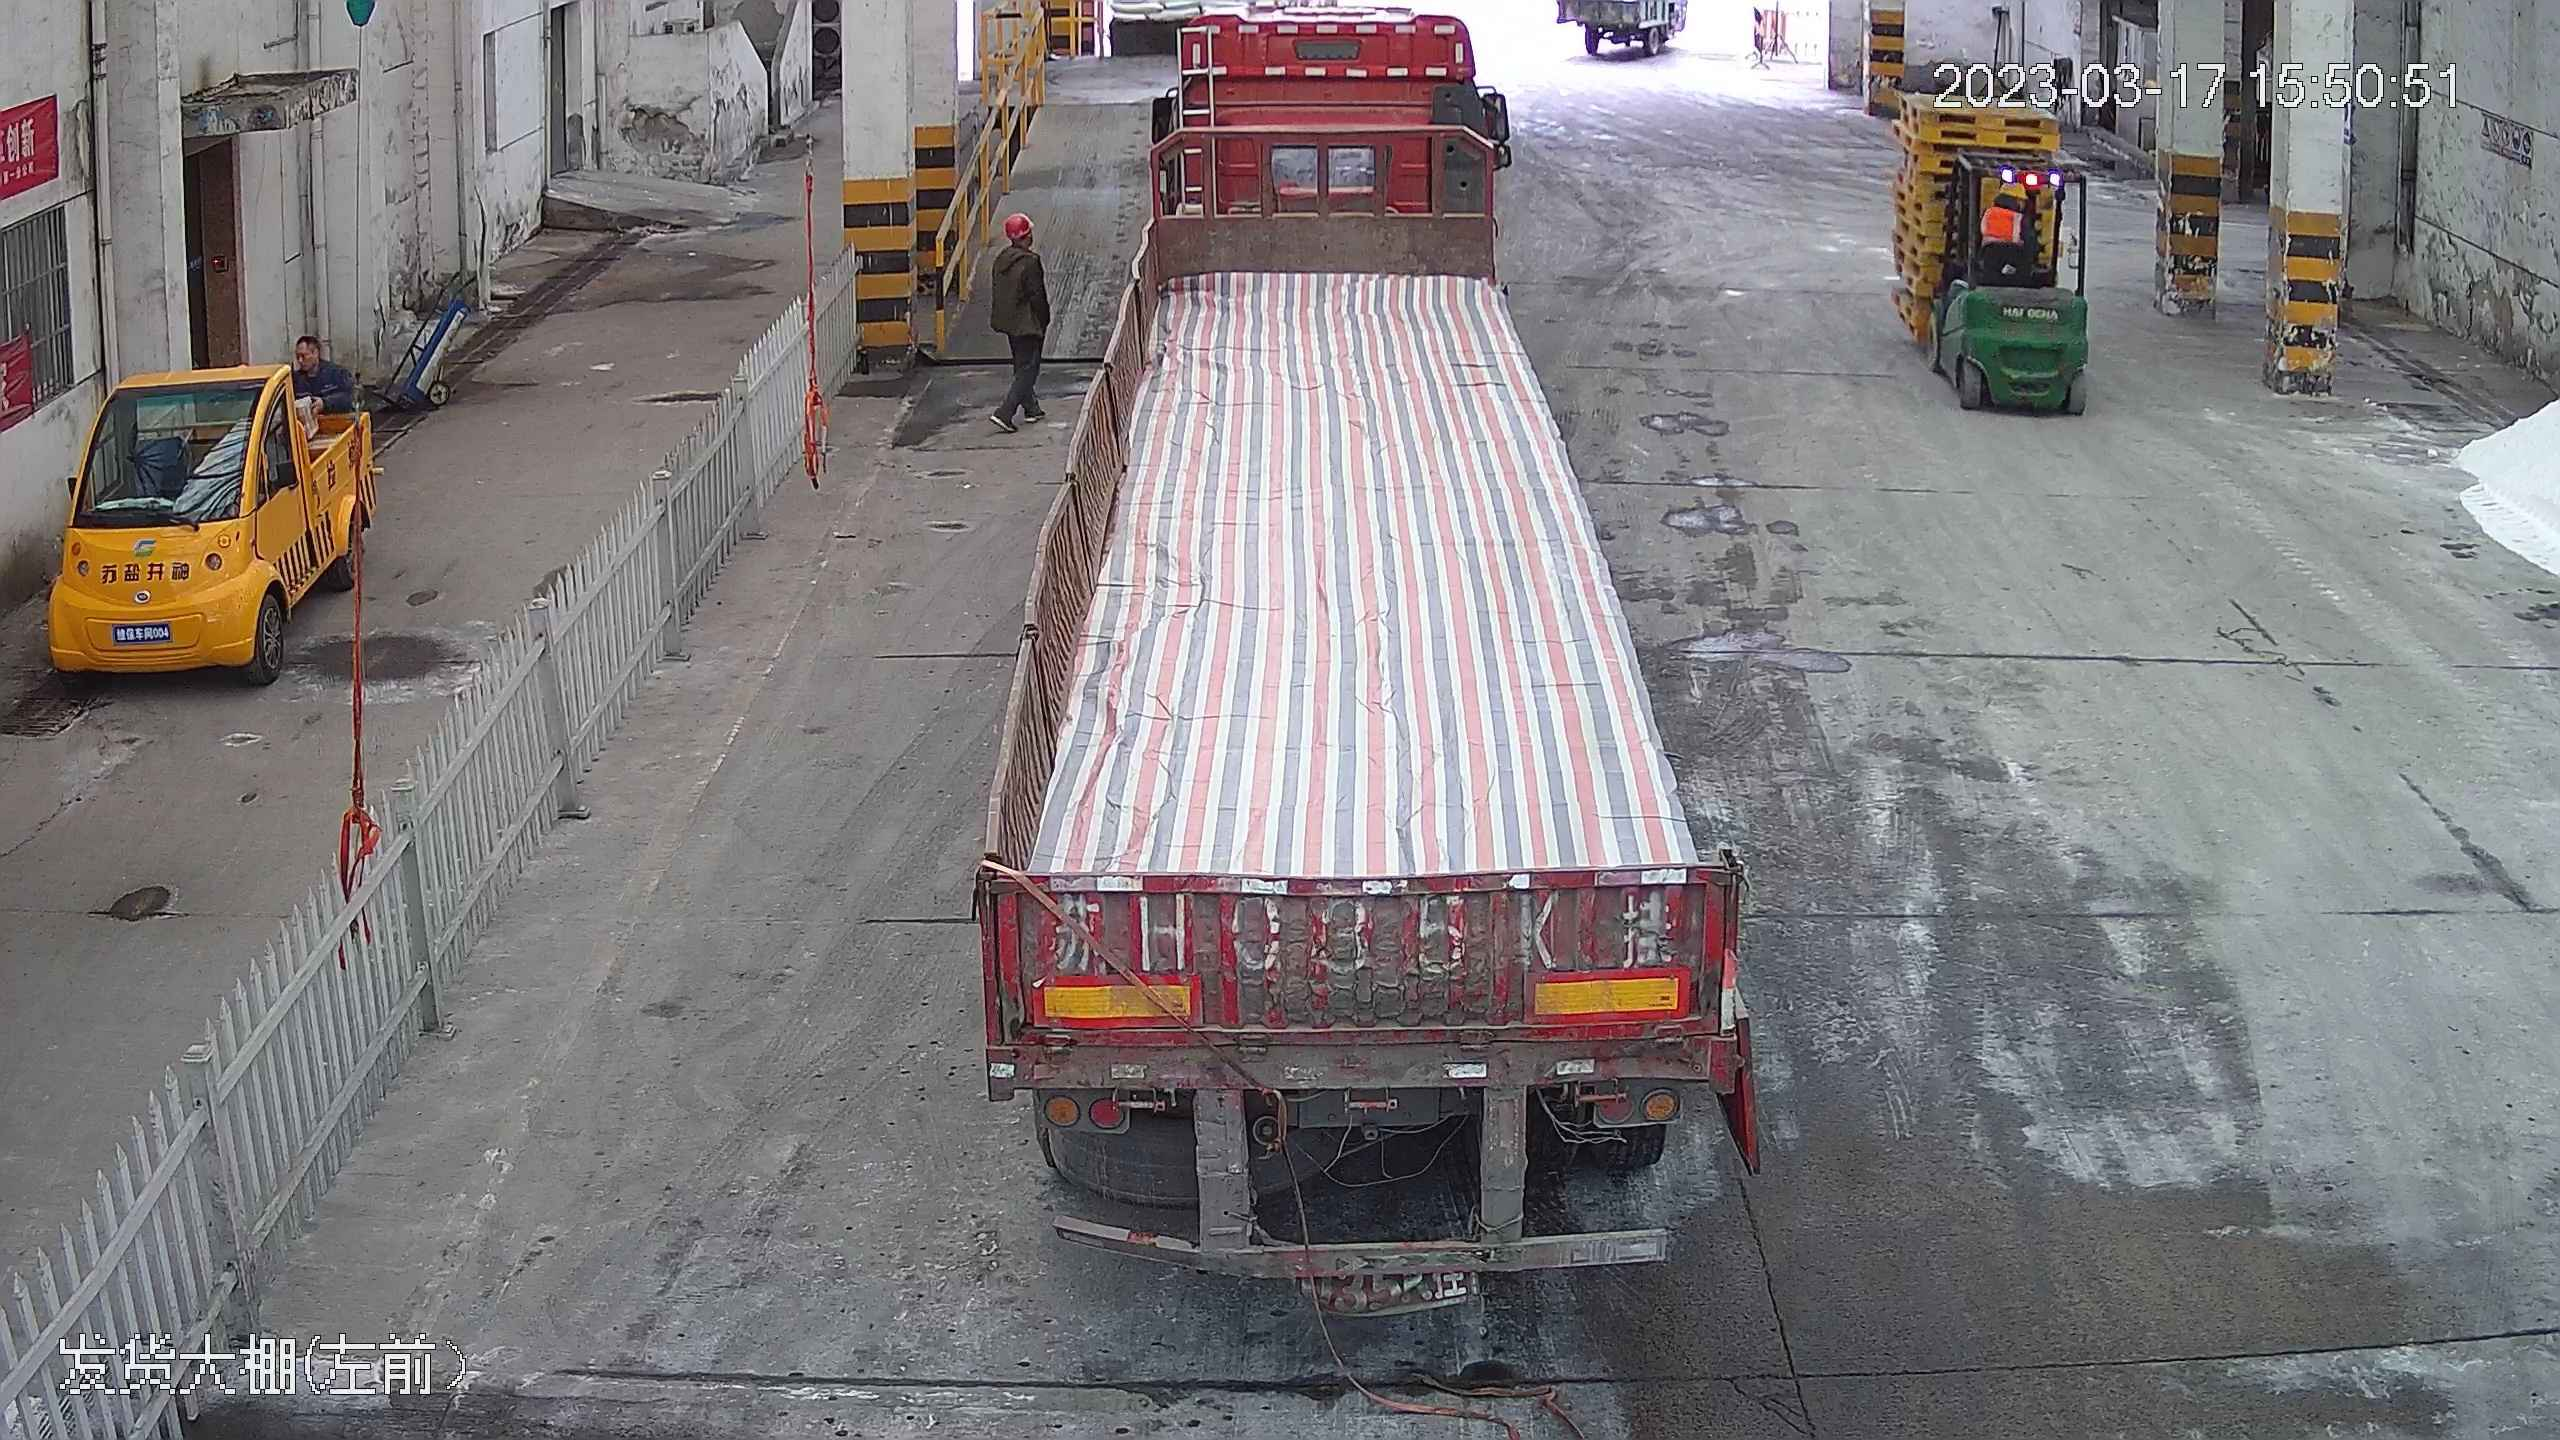head: (987, 210, 1049, 280), (1979, 178, 2030, 237)
helmet: (1002, 210, 1036, 236), (1990, 178, 2019, 201)
people: (977, 206, 1055, 436)
truck: (947, 1, 1768, 1268)
